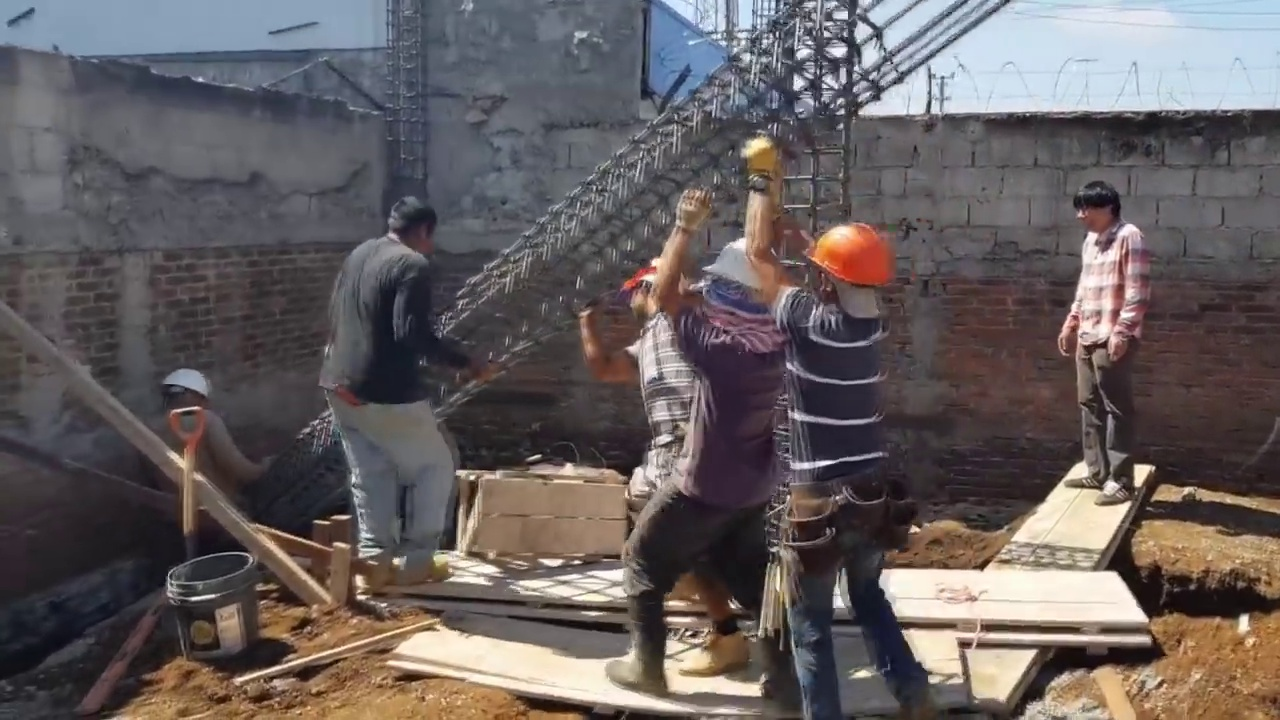helmet: (801, 226, 896, 297), (702, 238, 765, 290), (157, 371, 206, 406)
helmet-off: (384, 197, 439, 261), (1081, 182, 1129, 239)
helmet-on: (794, 222, 896, 329), (701, 238, 767, 328), (152, 361, 207, 419)
person: (746, 138, 905, 720), (607, 191, 791, 686), (320, 186, 502, 606), (1065, 187, 1156, 536), (578, 256, 703, 501), (142, 360, 278, 529)
